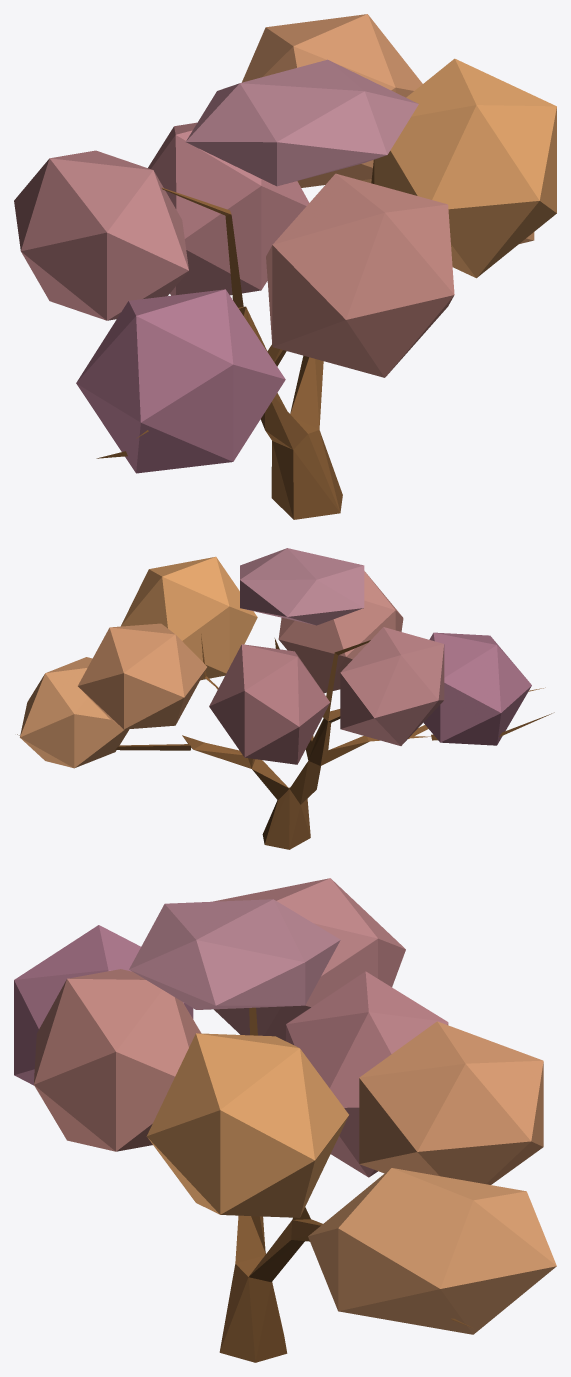
Rendered from jacaranda_1_autumn_far.glb.
The picture shows the model from 3 angles, top to bottom: view 1: azimuth 30°, elevation 25°; view 2: azimuth 150°, elevation 25°; view 3: azimuth 270°, elevation 25°; orthographic projection. The views are drawn at different scales.
Parts seen in each view (by area): view 1: jacaranda_1_autumn_far; view 2: jacaranda_1_autumn_far; view 3: jacaranda_1_autumn_far.
Part boxes in pixels (left/top/right/bottom): jacaranda_1_autumn_far: left=14, top=14, right=556, bottom=519; jacaranda_1_autumn_far: left=17, top=548, right=554, bottom=849; jacaranda_1_autumn_far: left=14, top=878, right=556, bottom=1362.
Size of the model in its own units: 9.68 by 6.27 by 7.36.
